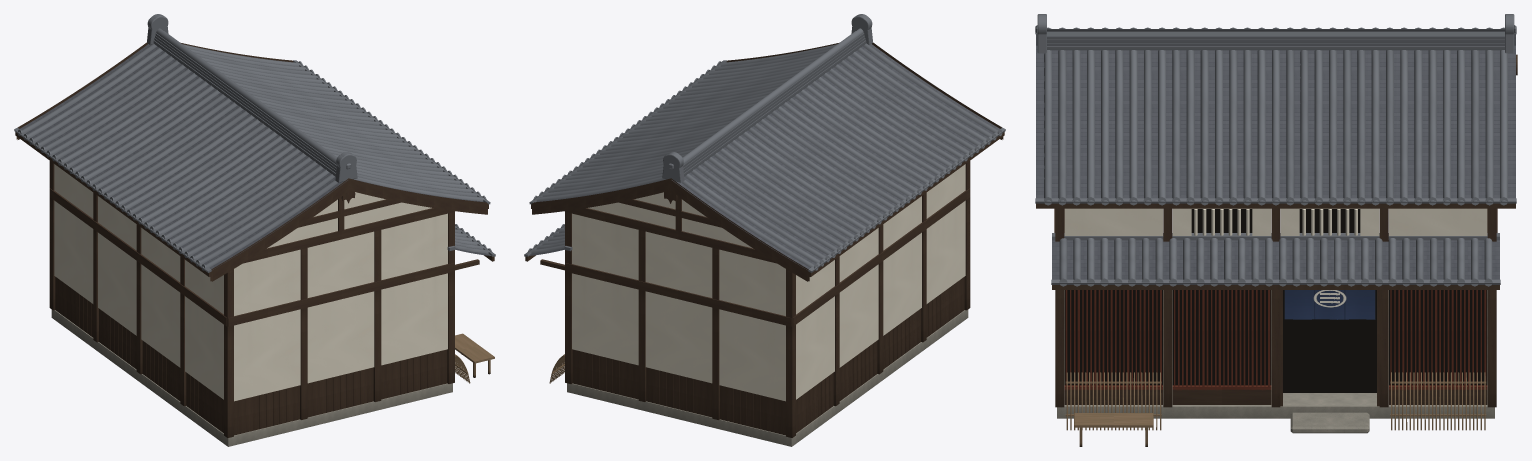
File: house.glb
3 views of the same model, side by side, from view 1: azimuth 30°, elevation 25°; view 2: azimuth 150°, elevation 25°; view 3: azimuth 270°, elevation 25° (orthographic). The views are drawn at different scales.
Parts seen in each view (by area): view 1: 町家-丸瓦, 町家-漆喰, 町家-古材, 町家-いぶし瓦, 町家-石, 町家-白木; view 2: 町家-丸瓦, 町家-漆喰, 町家-古材, 町家-いぶし瓦, 町家-石; view 3: 町家-丸瓦, 町家-いぶし瓦, 町家-奥の暗がり, 町家-古材, 町家-弁柄格子, 町家-漆喰, 町家-石, 町家-白木, 町家-暖簾.
Part boxes in pixels (x1,y1,x2,y2): 町家-丸瓦: (14,14,495,272); 町家-漆喰: (54,164,447,401); 町家-古材: (15,42,494,437); 町家-いぶし瓦: (20,44,491,269); 町家-石: (51,310,452,446); 町家-白木: (455,333,494,383); 町家-丸瓦: (524,14,1005,272); 町家-漆喰: (572,164,965,401); 町家-古材: (525,42,1004,437); 町家-いぶし瓦: (528,44,999,269); 町家-石: (567,310,968,446); 町家-丸瓦: (1035,14,1516,286); 町家-いぶし瓦: (1036,34,1515,279); 町家-奥の暗がり: (1064,209,1487,392); 町家-古材: (1036,54,1517,407); 町家-弁柄格子: (1064,290,1487,390); 町家-漆喰: (1064,208,1487,235); 町家-石: (1057,290,1494,433); 町家-白木: (1065,372,1486,446); 町家-暖簾: (1284,290,1375,319).
Size of the model in its own units: 8.22 by 7.02 by 9.16.
9 materials, 7 textured.
